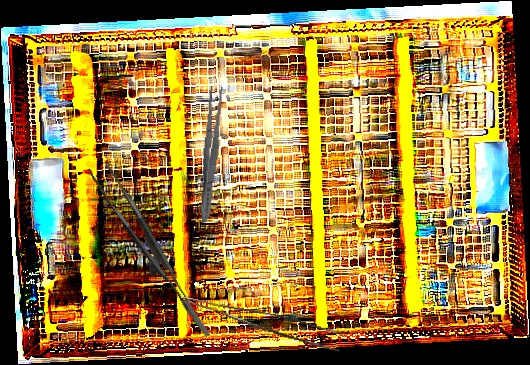Dressing Forceps: (196, 85, 225, 223)
Tissue Forceps: (88, 152, 210, 352), (176, 296, 346, 352)
